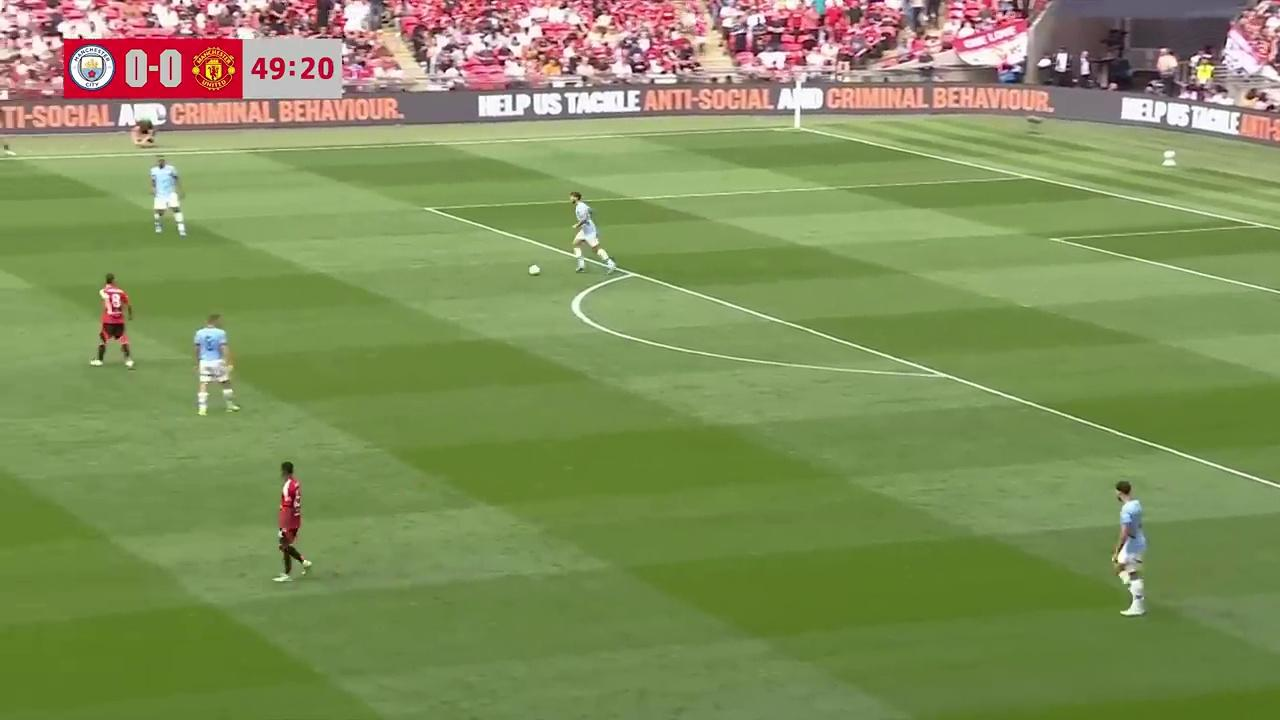ball: (525, 261, 542, 275)
player: (1111, 480, 1148, 616), (192, 312, 238, 416), (274, 461, 311, 583), (90, 273, 135, 368), (569, 198, 614, 272), (149, 155, 187, 237)
